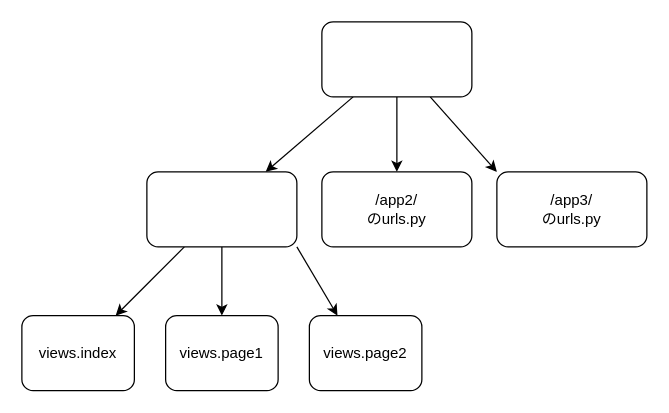
The diagram is 669 pixels wide and 413 high, and some of its shapes have lost their labels. The centre of each missing label's shape, as x and y in pixels:
/app1/ のurls.py: (221,209)
プロジェクトのurls.py: (396,59)
